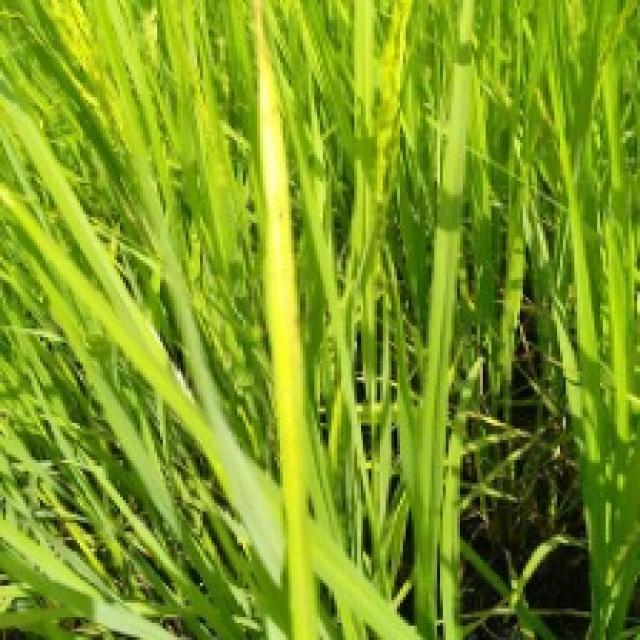Rice___Bacterial_Leaf_Blight: (250, 0, 324, 637)
